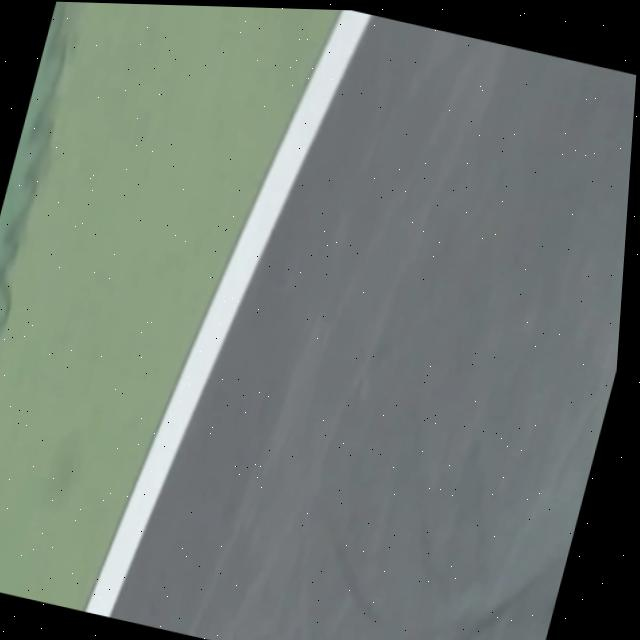right: (86, 10, 372, 618)
